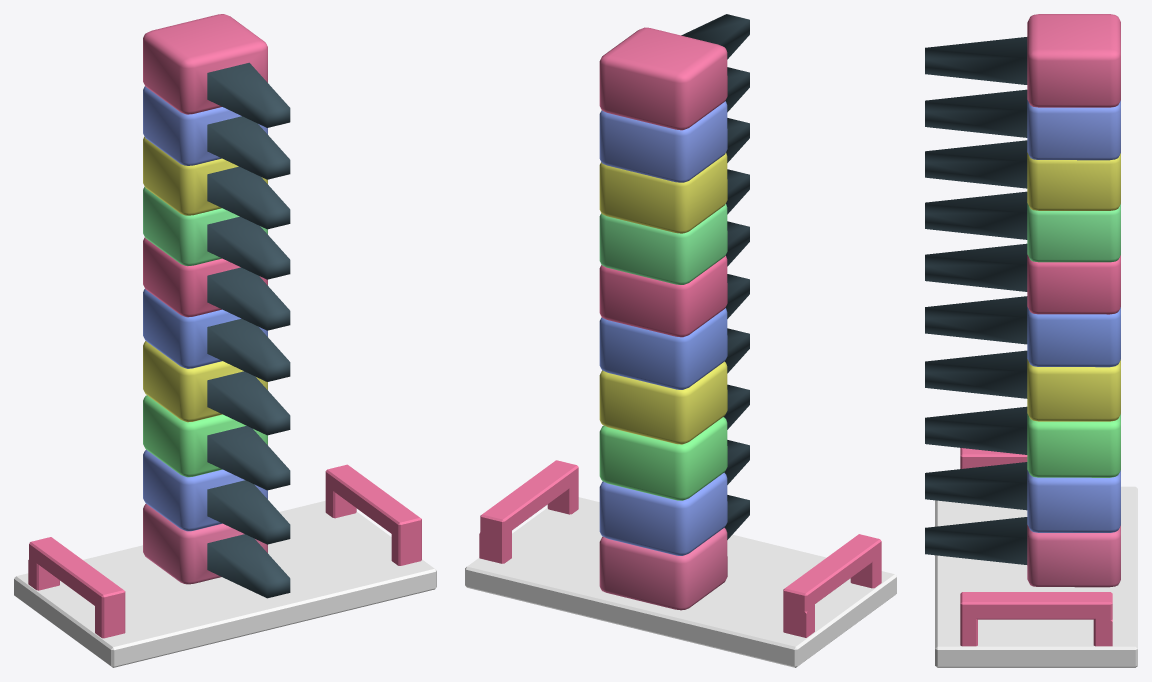
Rendered from Stack_plate.fbx.
3 renders of one model, left to right at view 1: azimuth 30°, elevation 25°; view 2: azimuth 150°, elevation 25°; view 3: azimuth 270°, elevation 25°, orthographic. The views are drawn at different scales.
Visible parts, largest first — view 1: Plate, Stack.010, Stack.003, Stack.001, Stack.002, Stack.004, Stack.009, Stack.005, Stack.006, Stack.007, Stack.008; view 2: Plate, Stack.010, Stack.003, Stack.001, Stack.004, Stack.002, Stack.009, Stack.005, Stack.006, Stack.007, Stack.008; view 3: Plate, Stack.010, Stack.003, Stack.001, Stack.004, Stack.002, Stack.009, Stack.005, Stack.006, Stack.007, Stack.008.
Part boxes in pixels (bbox=[...]): Plate: bbox=[14, 464, 436, 667]; Stack.010: bbox=[143, 14, 290, 127]; Stack.003: bbox=[143, 395, 290, 490]; Stack.001: bbox=[143, 449, 290, 544]; Stack.002: bbox=[143, 504, 290, 598]; Stack.004: bbox=[143, 341, 290, 435]; Stack.009: bbox=[143, 86, 290, 179]; Stack.005: bbox=[143, 289, 290, 381]; Stack.006: bbox=[143, 237, 290, 330]; Stack.007: bbox=[143, 186, 290, 279]; Stack.008: bbox=[143, 136, 290, 229]; Plate: bbox=[465, 460, 896, 667]; Stack.010: bbox=[599, 14, 749, 130]; Stack.003: bbox=[599, 384, 749, 500]; Stack.001: bbox=[599, 440, 749, 555]; Stack.004: bbox=[599, 328, 749, 444]; Stack.002: bbox=[599, 495, 749, 610]; Stack.009: bbox=[599, 67, 749, 182]; Stack.005: bbox=[599, 274, 749, 389]; Stack.006: bbox=[599, 221, 749, 337]; Stack.007: bbox=[599, 169, 749, 284]; Stack.008: bbox=[599, 118, 749, 233]; Plate: bbox=[935, 448, 1137, 667]; Stack.010: bbox=[925, 14, 1120, 107]; Stack.003: bbox=[925, 406, 1120, 477]; Stack.001: bbox=[925, 462, 1120, 532]; Stack.004: bbox=[925, 350, 1120, 421]; Stack.002: bbox=[925, 517, 1120, 587]; Stack.009: bbox=[925, 89, 1120, 160]; Stack.005: bbox=[925, 296, 1120, 367]; Stack.006: bbox=[925, 243, 1120, 314]; Stack.007: bbox=[925, 191, 1120, 262]; Stack.008: bbox=[925, 140, 1120, 210].
Bounding box in the file's own units: 0.5333 × 0.8505 × 0.2958.
